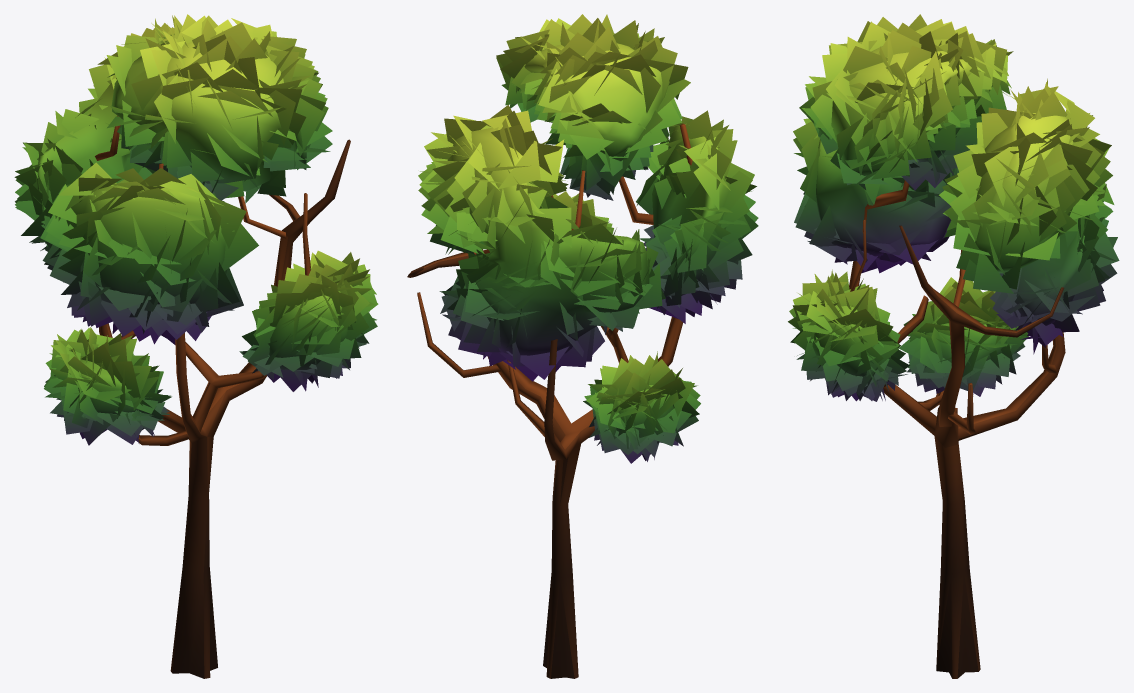
File: Forest_Tree_7A.fbx
3 renders of one model, left to right at view 1: azimuth 30°, elevation 25°; view 2: azimuth 150°, elevation 25°; view 3: azimuth 270°, elevation 25°, orthographic. The views are drawn at different scales.
Visible parts, largest first — view 1: Forest_Tree_7A; view 2: Forest_Tree_7A; view 3: Forest_Tree_7A.
Part boxes in pixels (left/top/right/bottom): Forest_Tree_7A: left=14, top=14, right=378, bottom=678; Forest_Tree_7A: left=407, top=14, right=758, bottom=678; Forest_Tree_7A: left=788, top=14, right=1119, bottom=678.
Size of the model in its own units: 314 by 637 by 301.
